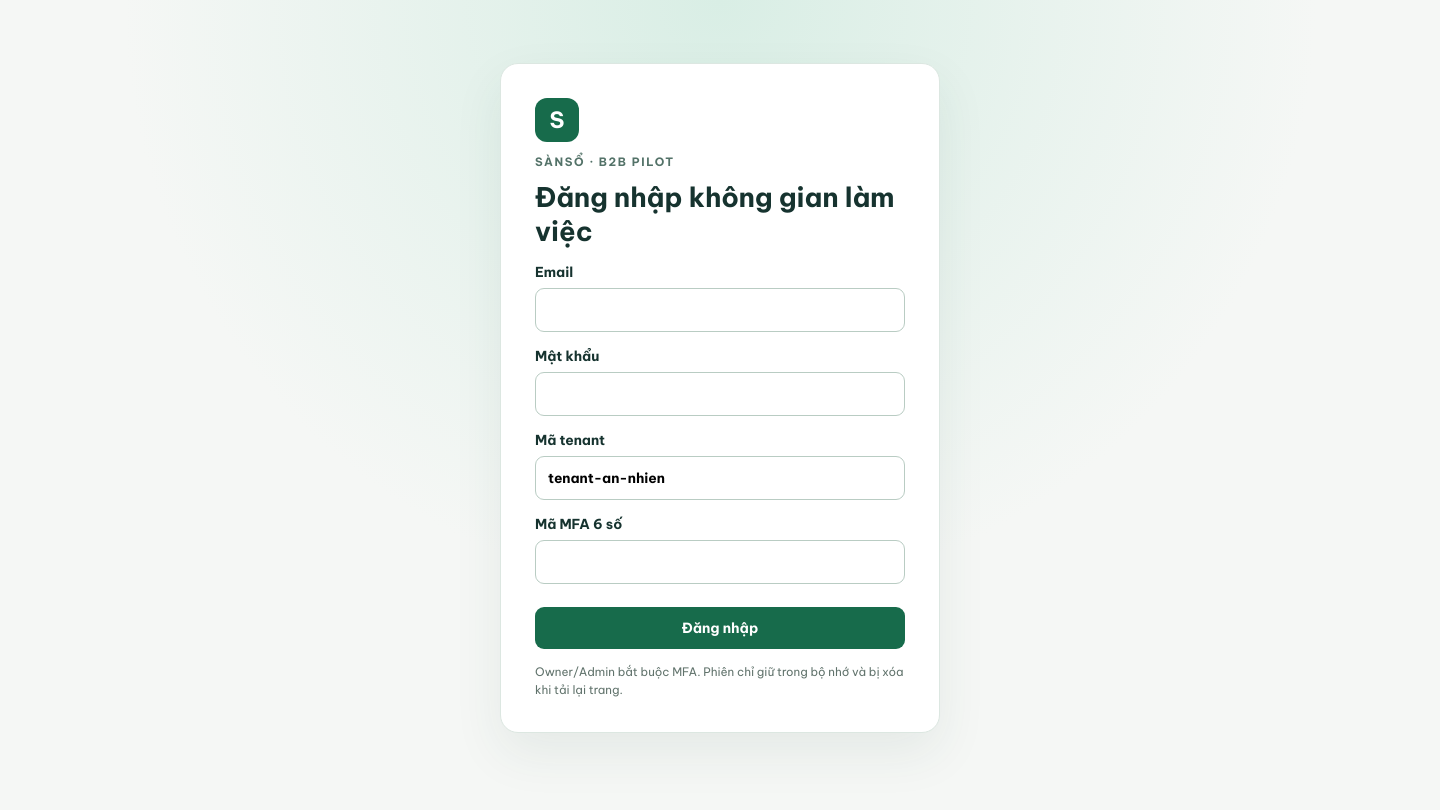
Test: AppV7 authenticated workspace › renders a denied state for Viewer instead of onboarding controls
Type "user@example.invalid" into the field labelled "Email" at (720, 310), box [535,288,905,332]
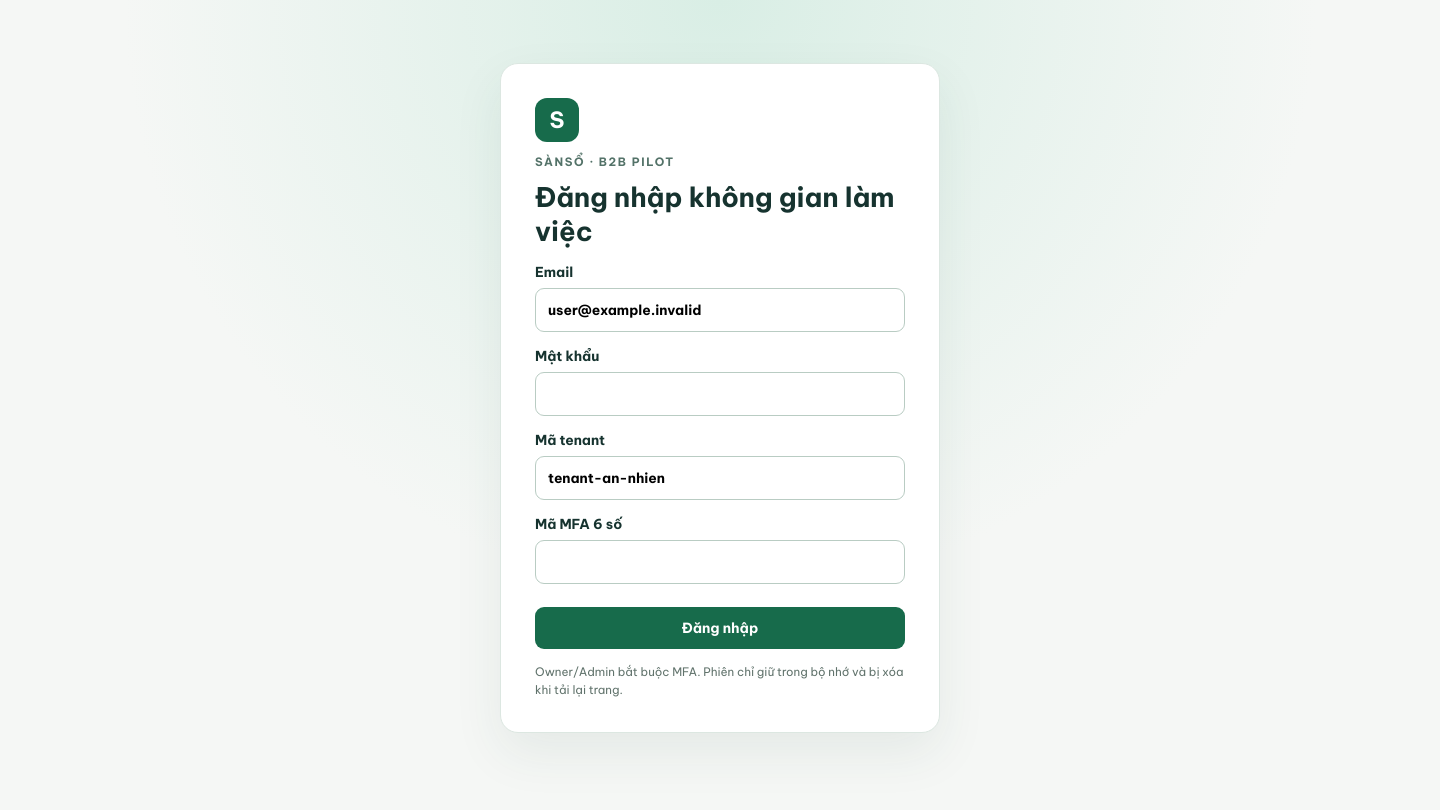
Type "a-long-password" into the password field labelled "Mật khẩu" at (720, 394), box [535,372,905,416]
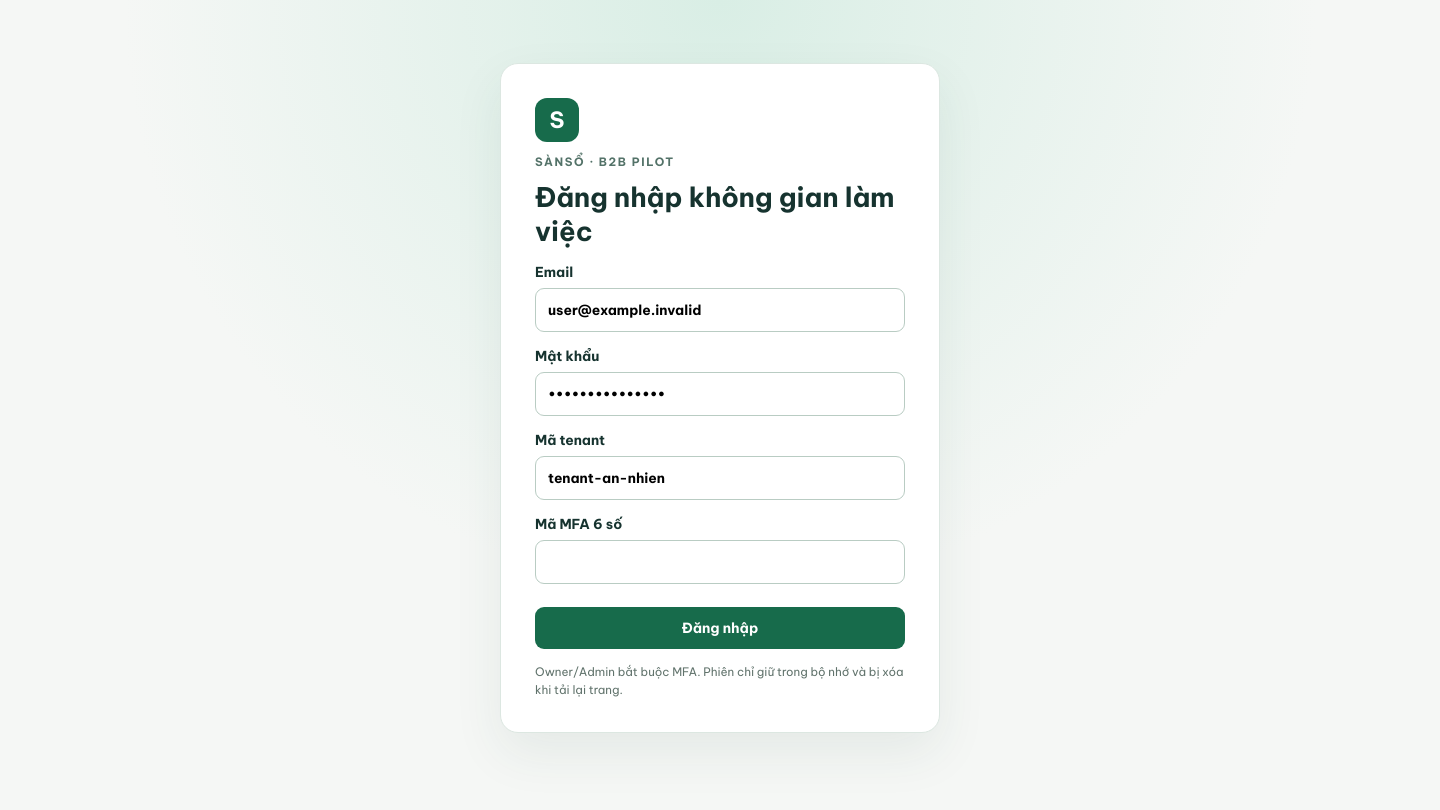
Type "123456" into the field labelled "Mã MFA 6 số" at (720, 562), box [535,540,905,584]
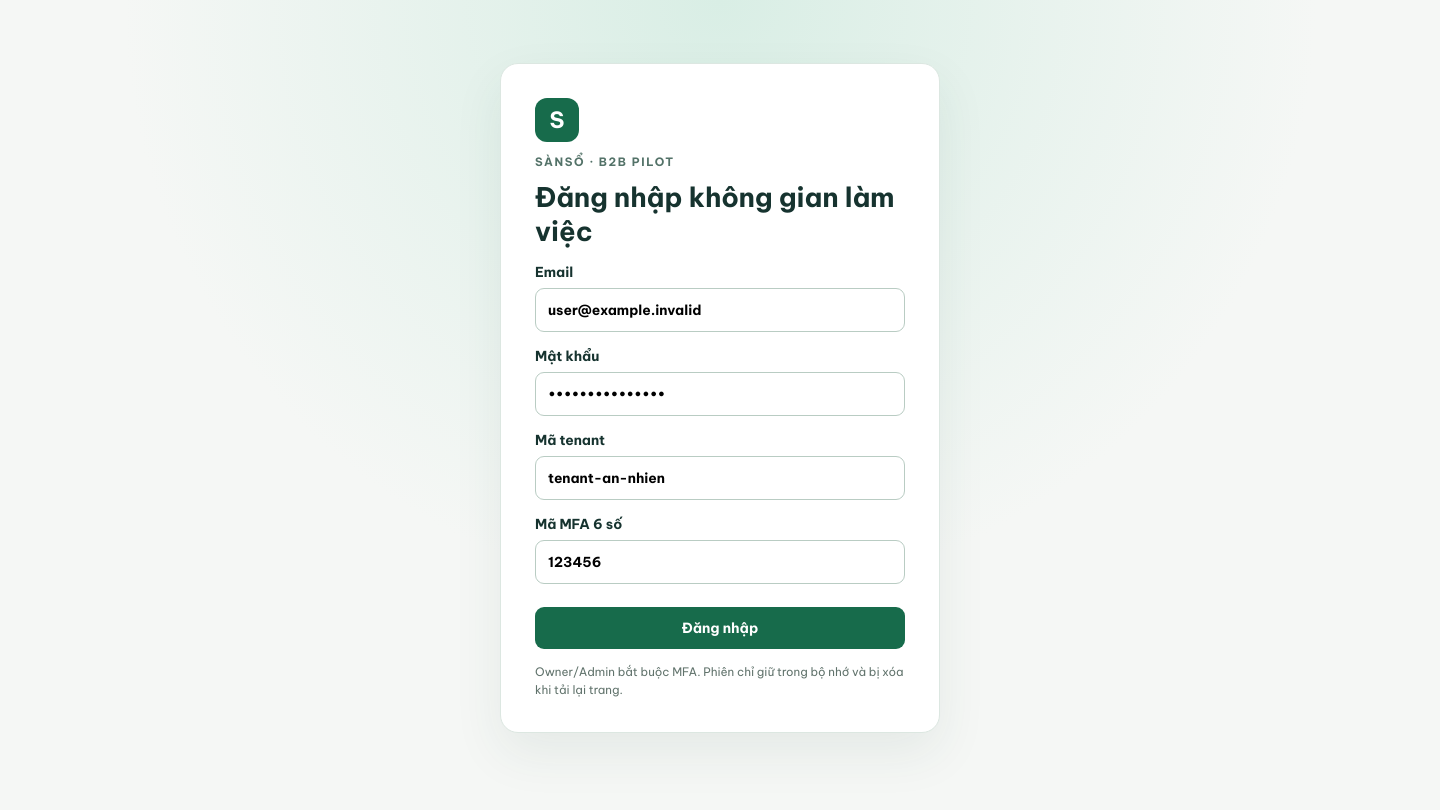
Click the button "Đăng nhập" at (720, 628), box [535,607,905,649]
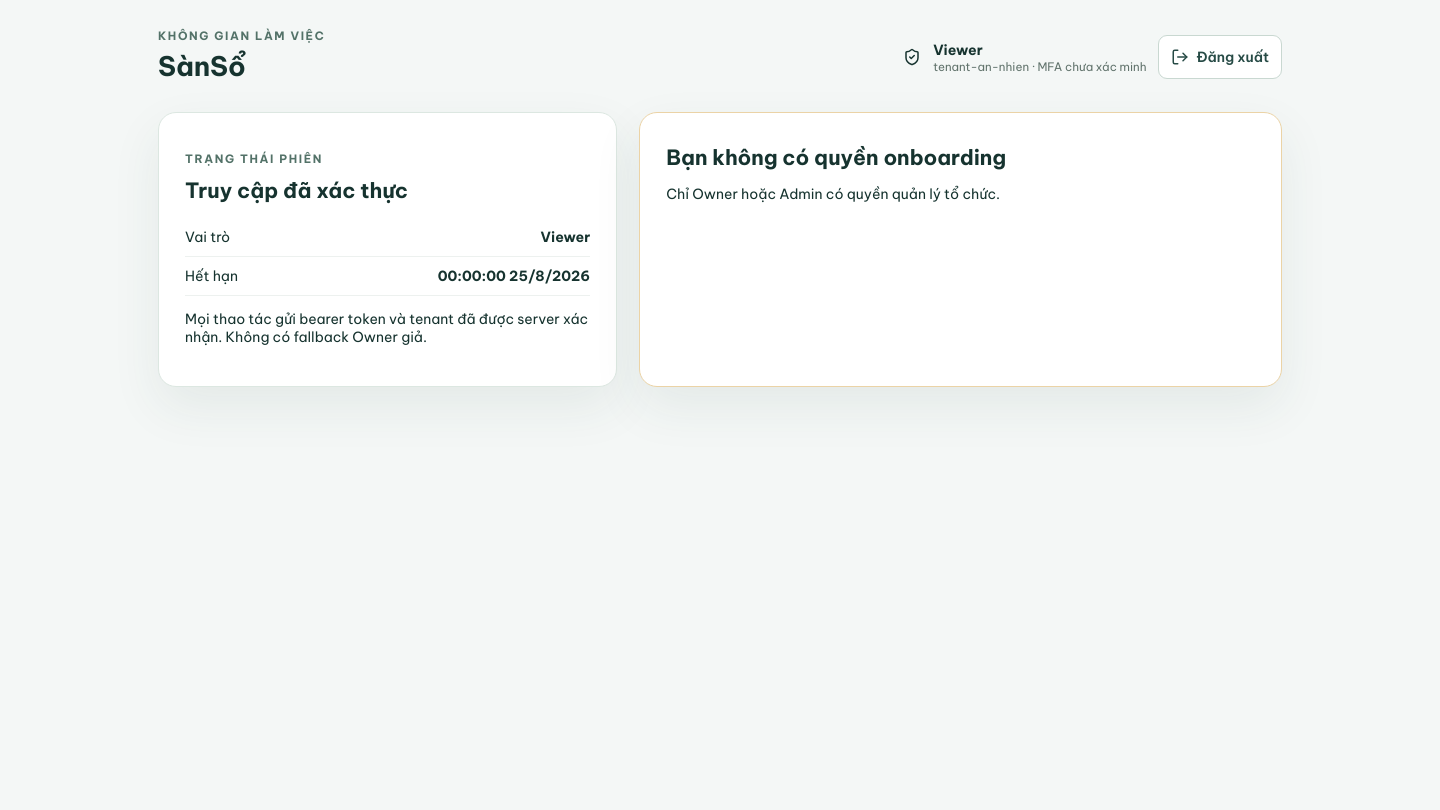
Expected: the heading "Bạn không có quyền onboarding" is shown, [666,144,1006,171]
